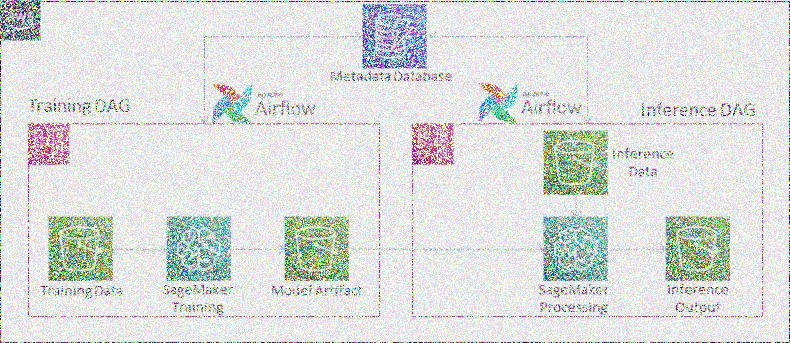Airflow: (465, 71, 522, 128), (207, 76, 257, 127)
Dynamo DB: (362, 0, 429, 70)
S3: (282, 212, 351, 285), (663, 213, 734, 283), (45, 214, 116, 282), (542, 128, 608, 196)
Sagemaker: (163, 215, 234, 285), (539, 214, 612, 282)
aws: (0, 0, 42, 42)
